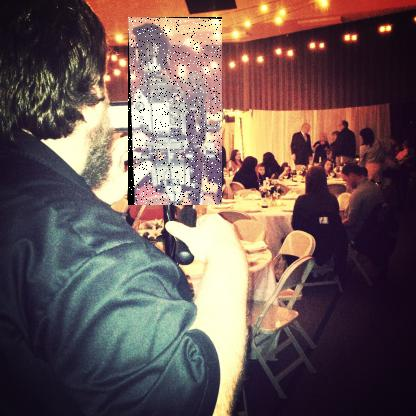Camera: (129, 18, 224, 207)
